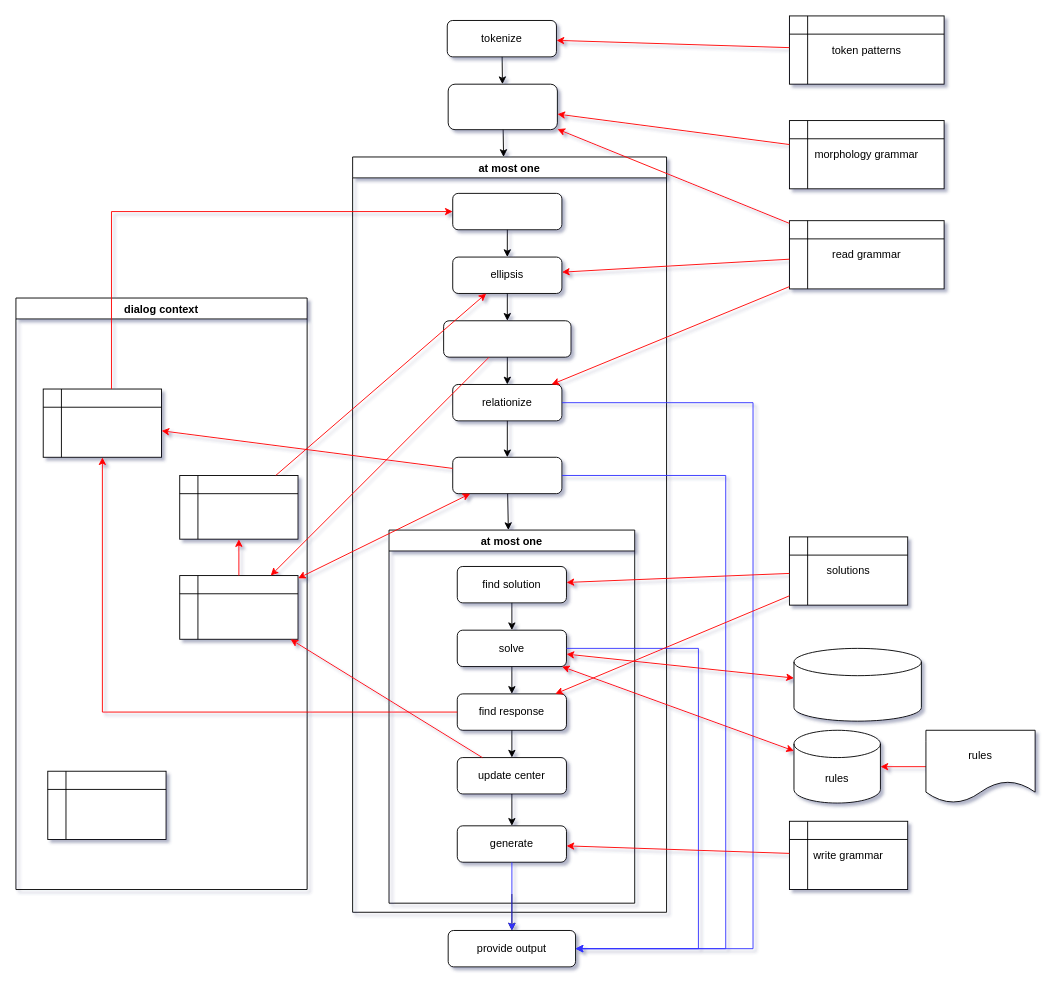
Image size: 1057x988. Some labels were removed from this diagram. Here are the shapes that lost their labels. From the top down, the centre of each, then its label:
At pixel 502 106: "parse with morphological analysis".
At pixel 507 211: "dialogize".
At pixel 507 338: "root clause extraction".
At pixel 102 422: "discourse entities".
At pixel 507 475: "anaphora resolution".
At pixel 238 507: "clauses".
At pixel 238 607: "active clause".
At pixel 857 684: "external databases".
At pixel 106 804: "deictic center".
